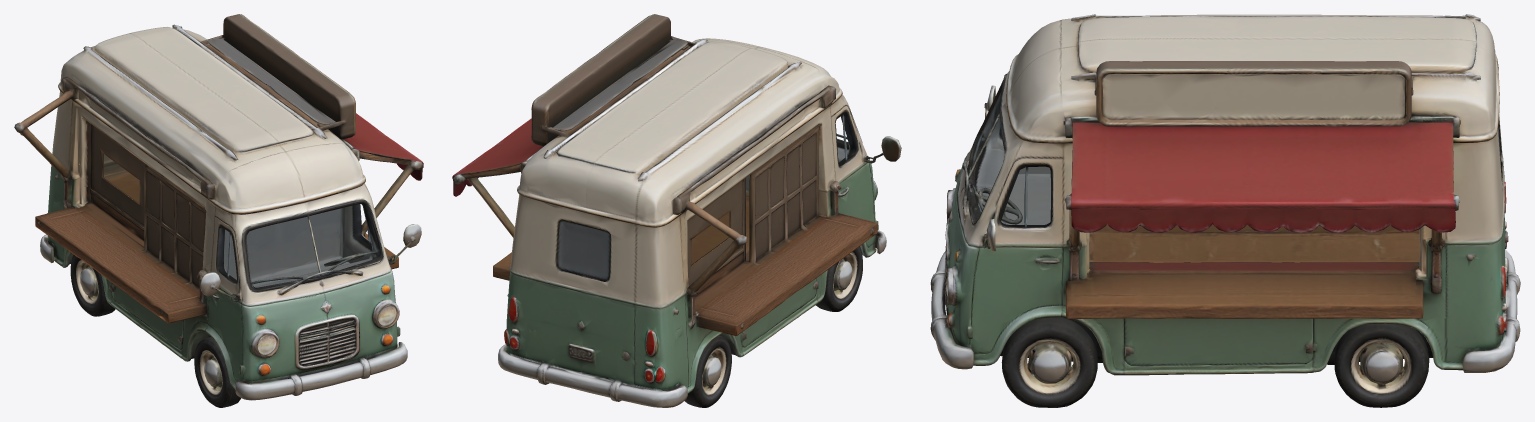
Rendered from level-1-web.glb.
3 renders of one model, left to right at view 1: azimuth 30°, elevation 25°; view 2: azimuth 150°, elevation 25°; view 3: azimuth 270°, elevation 25°, orthographic. The views are drawn at different scales.
Parts seen in each view (by area): view 1: tripo_node_5dda1828-d0d5-4a59-a8a1-c40606a564f0; view 2: tripo_node_5dda1828-d0d5-4a59-a8a1-c40606a564f0; view 3: tripo_node_5dda1828-d0d5-4a59-a8a1-c40606a564f0.
Part boxes in pixels (x1=…): tripo_node_5dda1828-d0d5-4a59-a8a1-c40606a564f0: x1=14, y1=14, x2=423, y2=407; tripo_node_5dda1828-d0d5-4a59-a8a1-c40606a564f0: x1=452, y1=14, x2=901, y2=407; tripo_node_5dda1828-d0d5-4a59-a8a1-c40606a564f0: x1=930, y1=14, x2=1520, y2=407.
Size of the model in its own units: 0.6954 by 0.6258 by 0.9773.
Materials: 1 (1 with a texture image).
